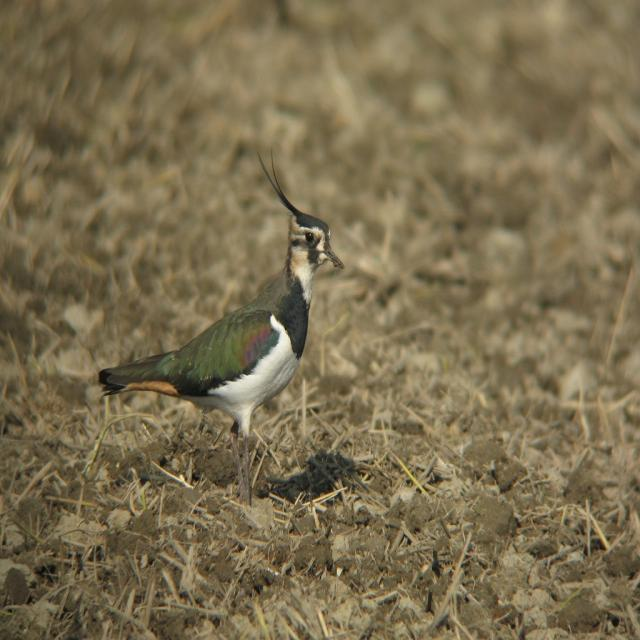bird: (93, 146, 360, 466)
